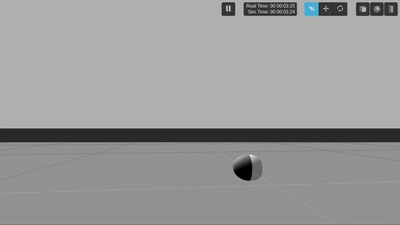mira_robot: (233, 155, 263, 181)
